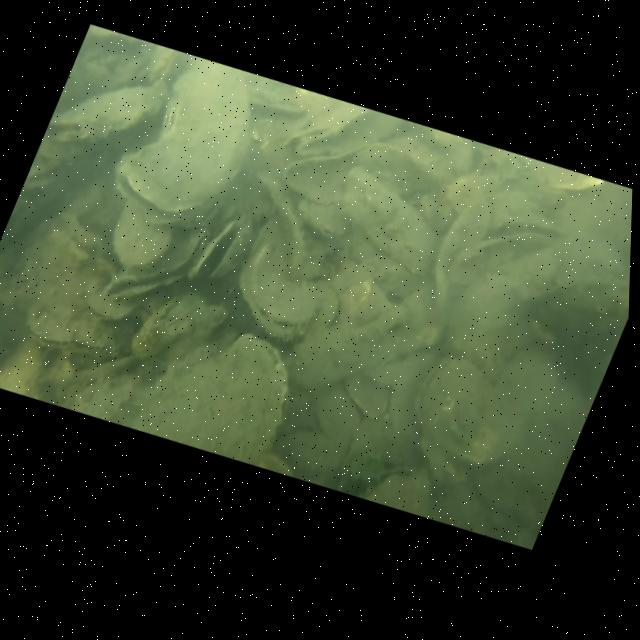Oyster-Closed: (129, 297, 315, 483), (395, 338, 539, 481), (214, 206, 345, 356), (26, 287, 128, 378), (99, 189, 182, 279), (81, 267, 148, 334), (0, 273, 10, 376)
Oyster-Indeterminate: (273, 101, 452, 249), (505, 246, 631, 415), (317, 150, 463, 286), (443, 219, 560, 364), (409, 181, 502, 325), (446, 203, 564, 314)
Oyster-Open: (98, 35, 274, 247), (42, 48, 172, 176), (100, 197, 214, 325), (126, 271, 210, 373), (351, 445, 441, 524), (185, 200, 256, 294), (21, 146, 70, 202)
